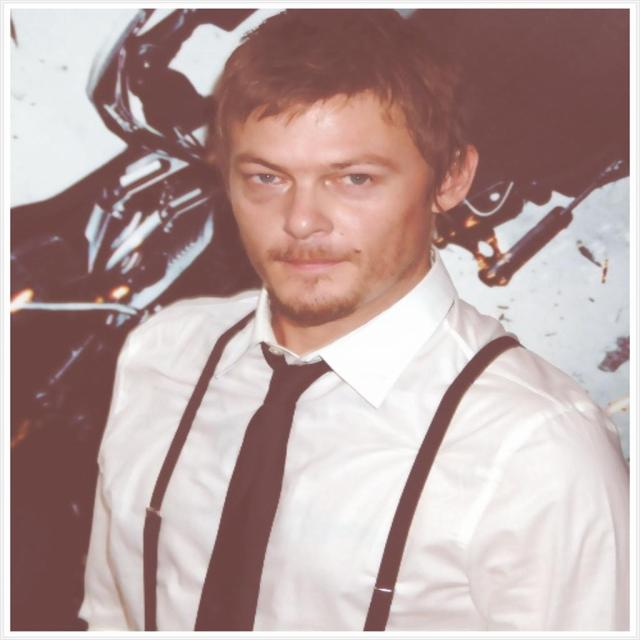nomask: (233, 100, 438, 312)
